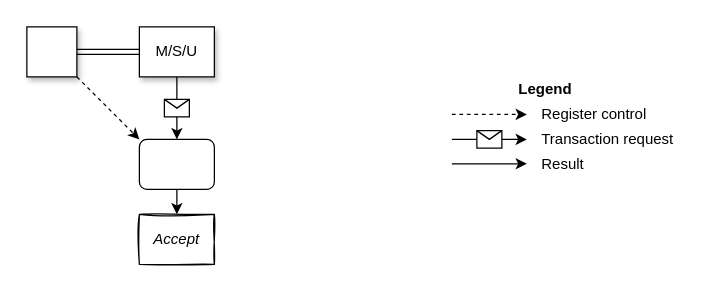
The diagram is 724 pixels wide and 286 high, and some of its shapes have lost their labels. Here are the shapes that lost their labels. From the top down, the centre of each, then its label:
the point at 52,53: RoT
the point at 176,163: mwid
